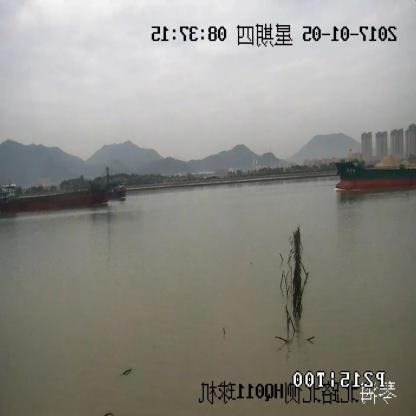Bulk Carrier: (0, 170, 126, 212), (336, 149, 415, 192)
